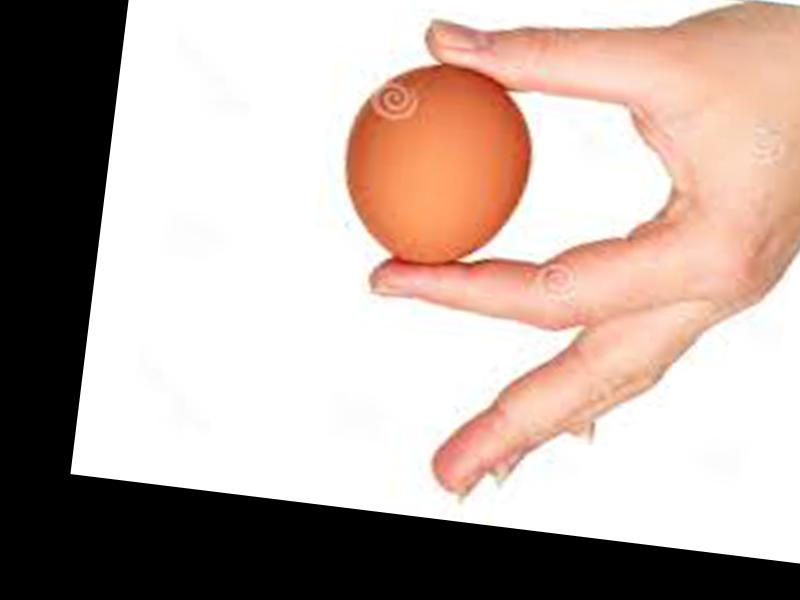Eggs: (332, 51, 544, 277)
